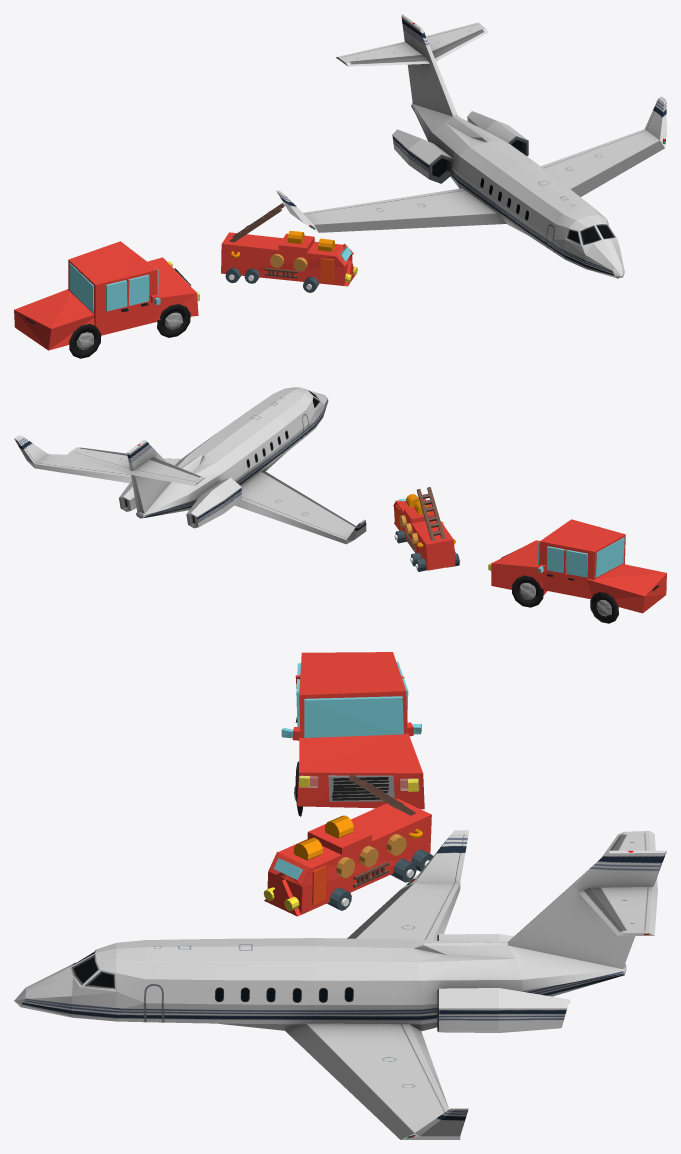
The model's file is transportation.dae.
The picture shows the model from 3 angles, top to bottom: view 1: azimuth 30°, elevation 25°; view 2: azimuth 150°, elevation 25°; view 3: azimuth 270°, elevation 25°; orthographic projection. The views are drawn at different scales.
Visible parts, largest first — view 1: jet, tesla, firetruck; view 2: jet, tesla, firetruck; view 3: jet, tesla, firetruck.
Boxes of the visible parts, bbox=[...] form: jet: bbox=[276, 14, 666, 278]; tesla: bbox=[14, 241, 199, 358]; firetruck: bbox=[221, 203, 357, 292]; jet: bbox=[14, 387, 366, 544]; tesla: bbox=[488, 519, 666, 623]; firetruck: bbox=[393, 487, 460, 571]; jet: bbox=[14, 830, 666, 1139]; tesla: bbox=[281, 652, 424, 816]; firetruck: bbox=[263, 774, 433, 916].
Size of the model in its own units: 2.79 by 1.58 by 0.5878.
16 materials, 1 textured.
